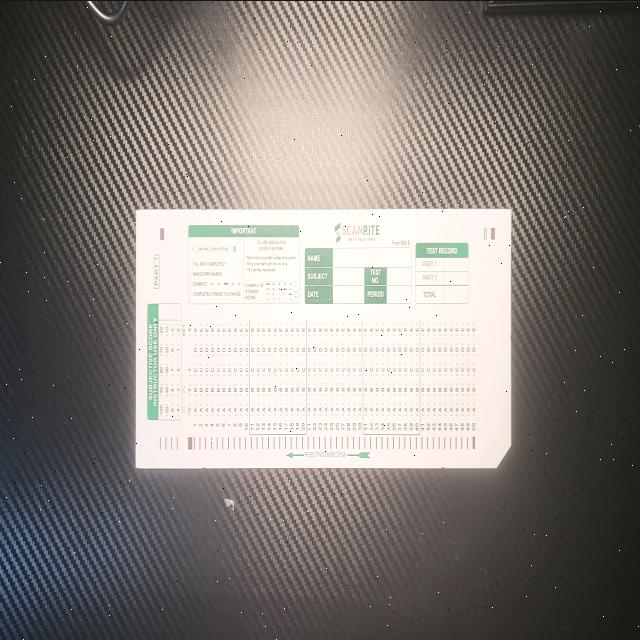scantron: (137, 205, 511, 468)
